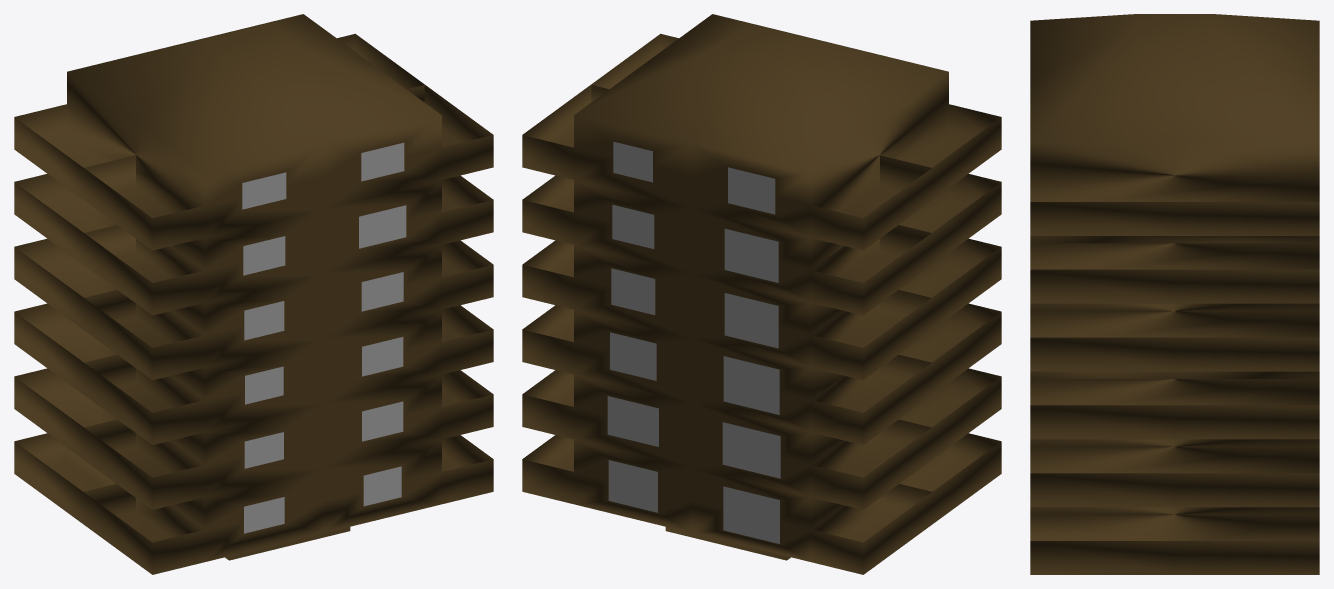
Rendered from bina.fbx.
The picture shows the model from 3 angles, left to right: view 1: azimuth 30°, elevation 25°; view 2: azimuth 150°, elevation 25°; view 3: azimuth 270°, elevation 25°; orthographic projection. The views are drawn at different scales.
Parts seen in each view (by area): view 1: Cube; view 2: Cube; view 3: Cube.
Part boxes in pixels (<box>): Cube: <box>14,14,493,574</box>; Cube: <box>522,14,1001,574</box>; Cube: <box>1030,14,1319,574</box>.
Size of the model in its own units: 2978 by 3961 by 2090.
